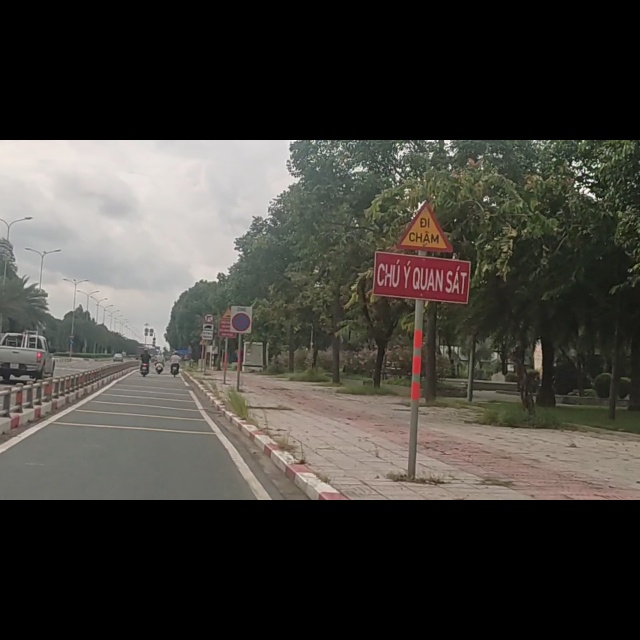bien_nguy_hiem: (395, 101, 456, 201), (230, 293, 252, 345), (201, 326, 214, 354), (203, 308, 214, 325)
